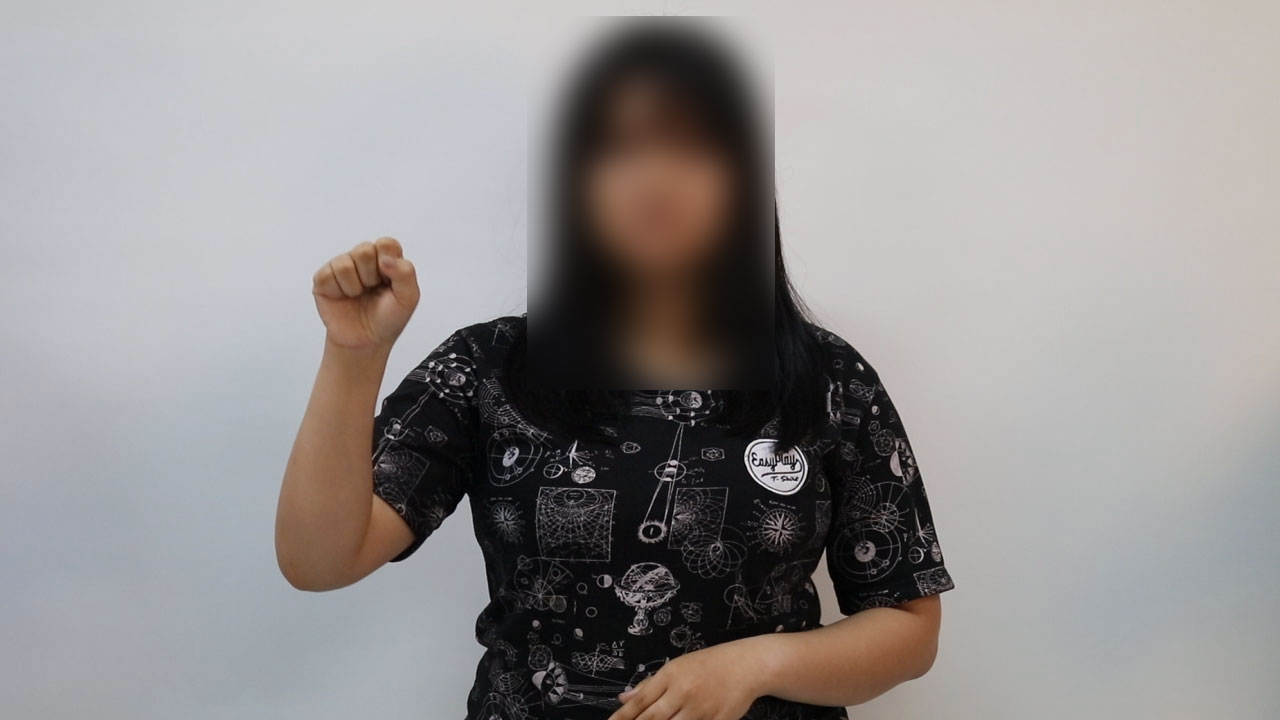sor: (301, 224, 425, 362)
